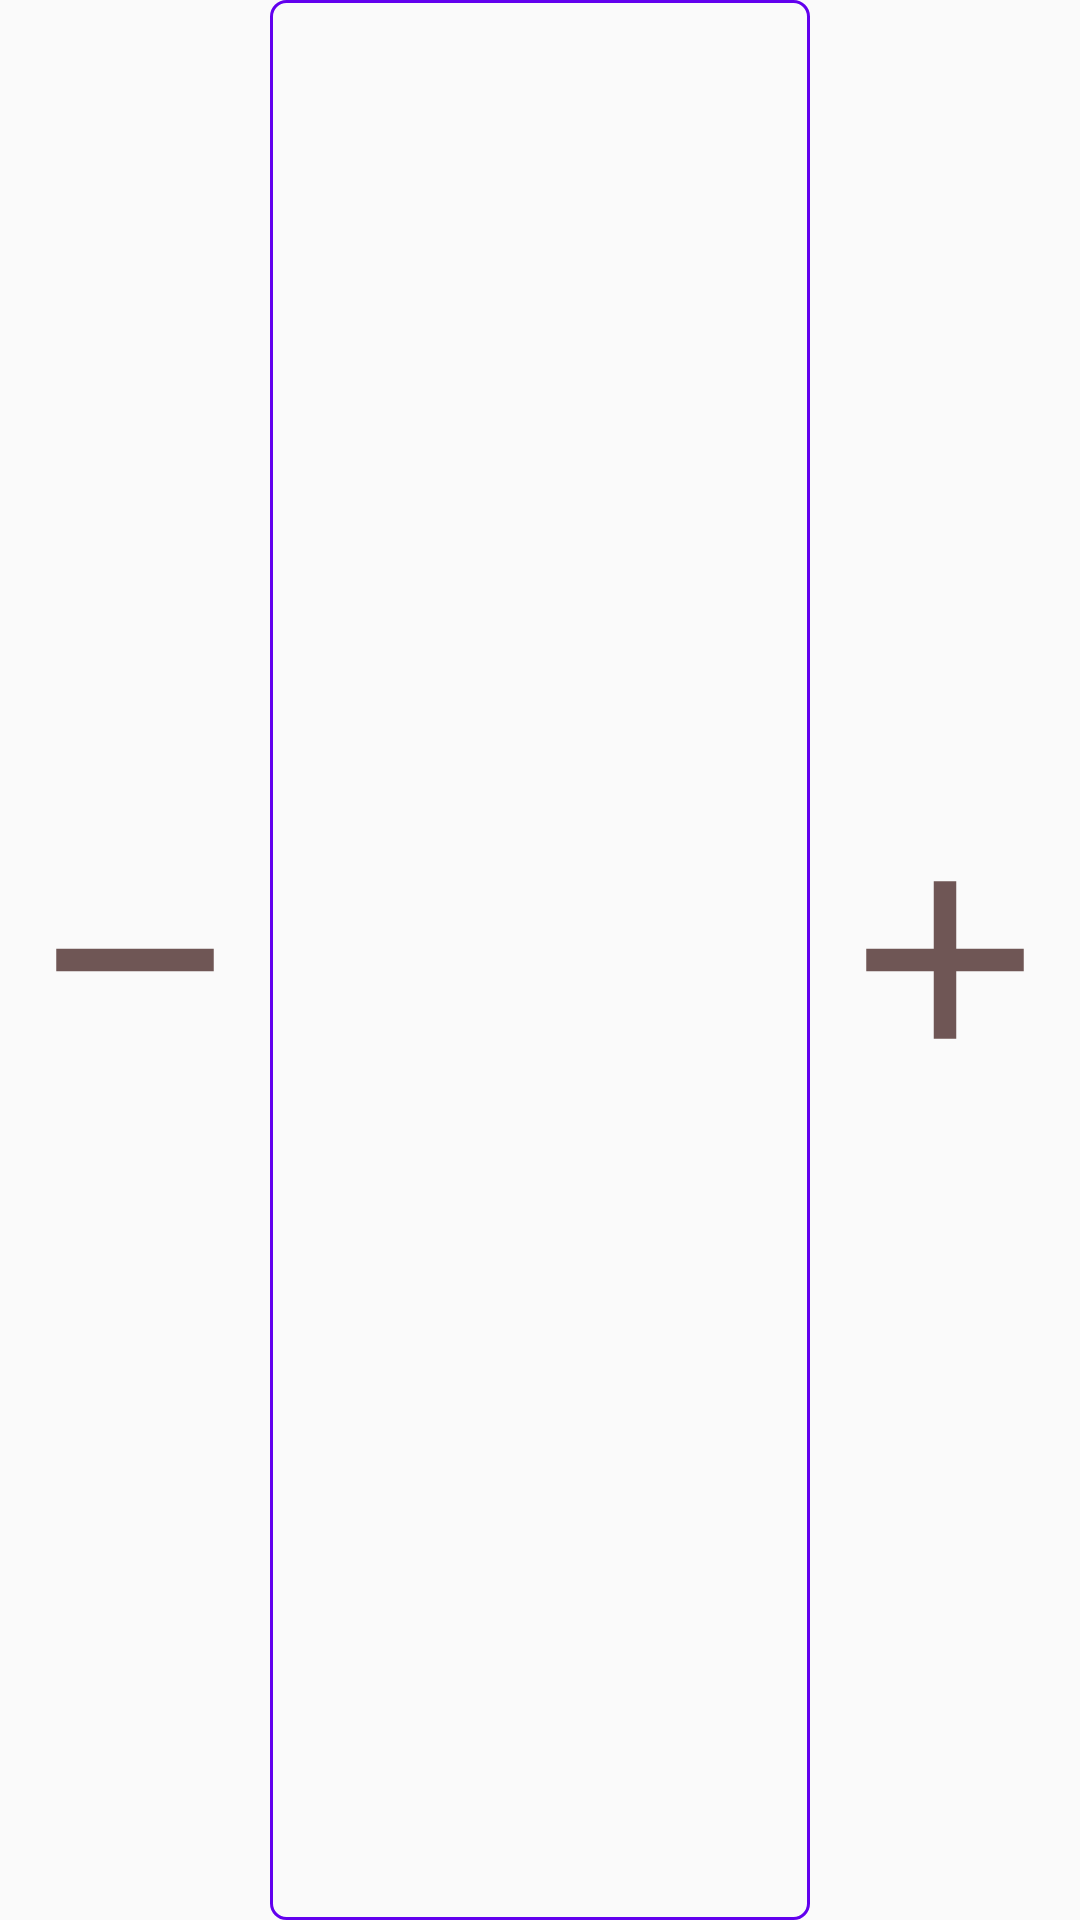

Screen size 1080×1920. Icon name, then its box in pixels as [x1,y1,x2,y2]:
add: [866,881,1024,1039]
